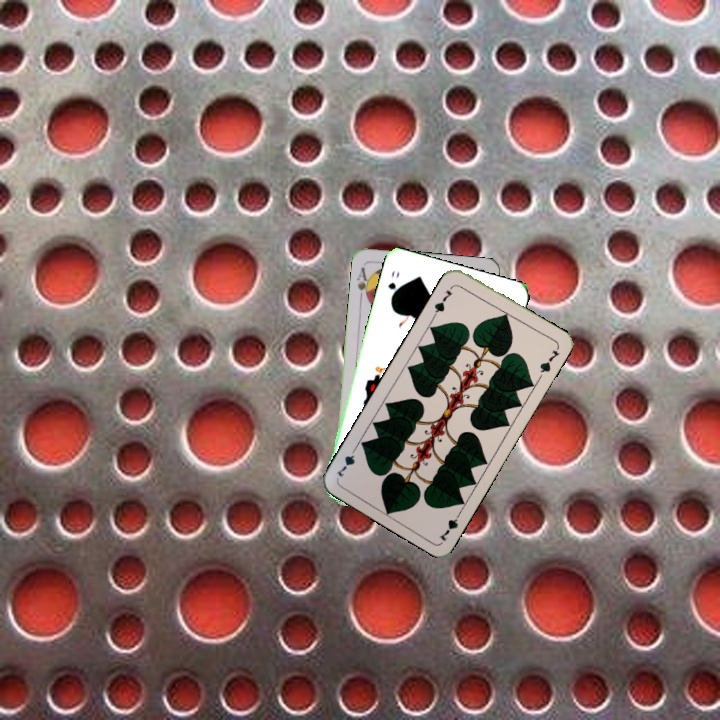G7: (435, 506, 465, 543), (430, 282, 456, 318)
GO: (384, 266, 402, 303)
SA: (353, 263, 373, 302)
